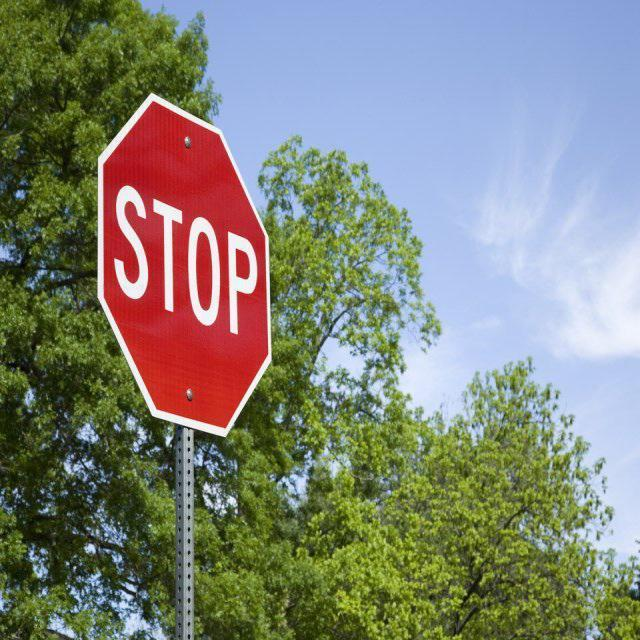stop: (87, 81, 281, 444)
